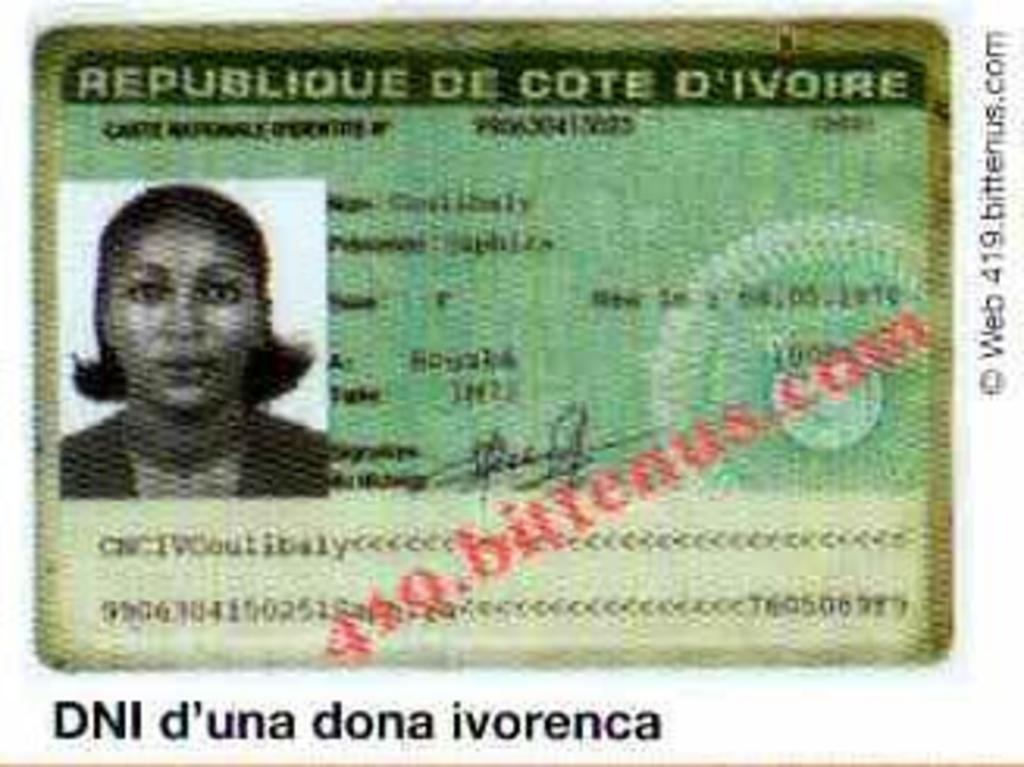Person: (60, 184, 327, 497)
